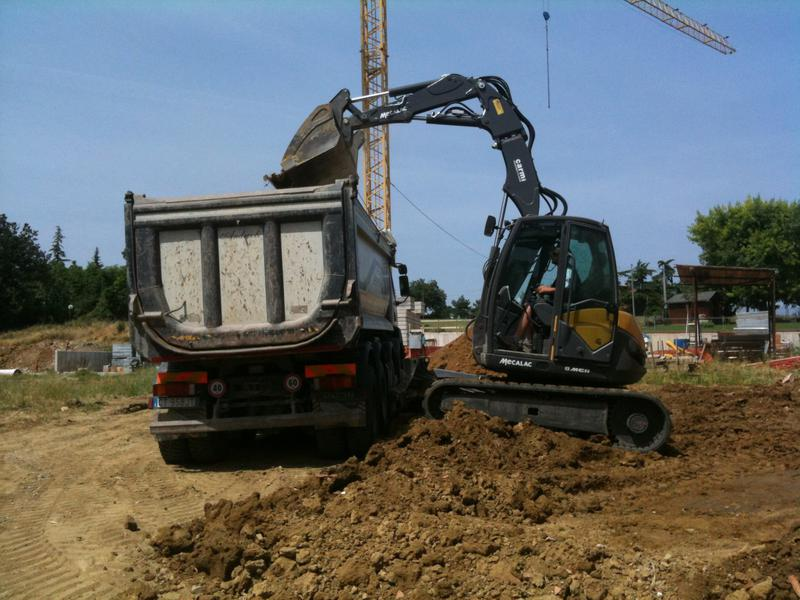shovel: (272, 74, 688, 459)
